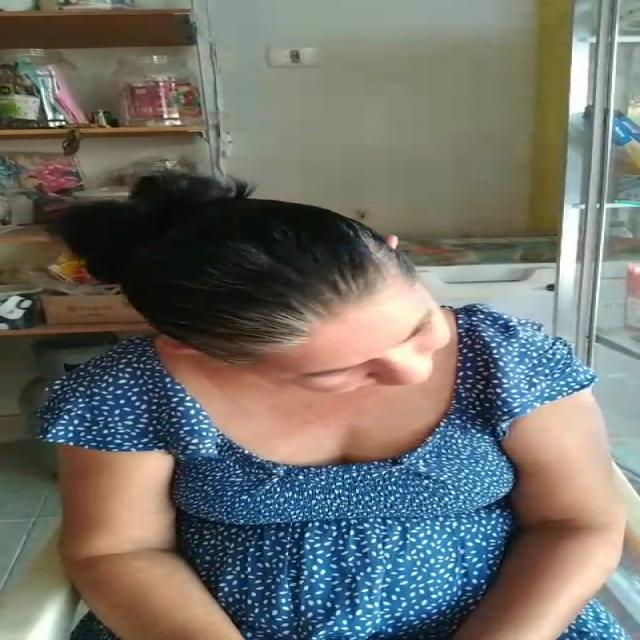9_cabeza_baja: (120, 174, 448, 393)
